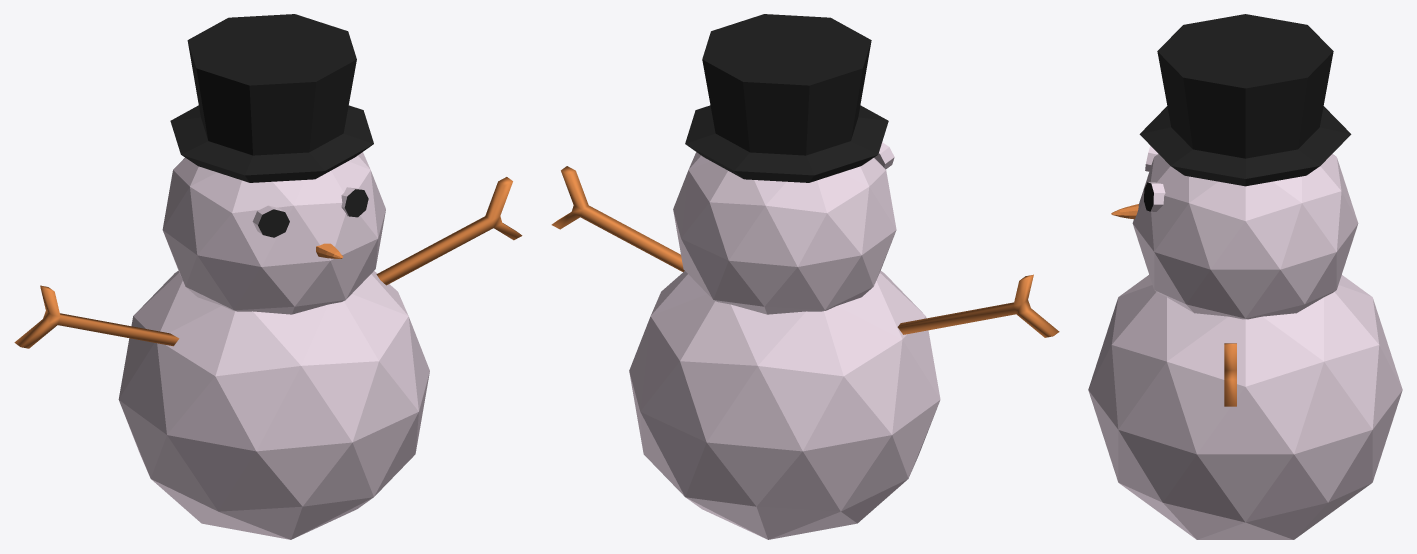
The model's file is snow man.fbx.
3 views of the same model, side by side, from view 1: azimuth 30°, elevation 25°; view 2: azimuth 150°, elevation 25°; view 3: azimuth 270°, elevation 25° (orthographic).
Parts seen in each view (by area): view 1: Circle; view 2: Circle; view 3: Circle.
Boxes of the visible parts, bbox=[...] form: Circle: bbox=[14, 14, 522, 539]; Circle: bbox=[551, 14, 1059, 539]; Circle: bbox=[1088, 14, 1402, 539].
Size of the model in its own units: 371 by 337 by 200.
